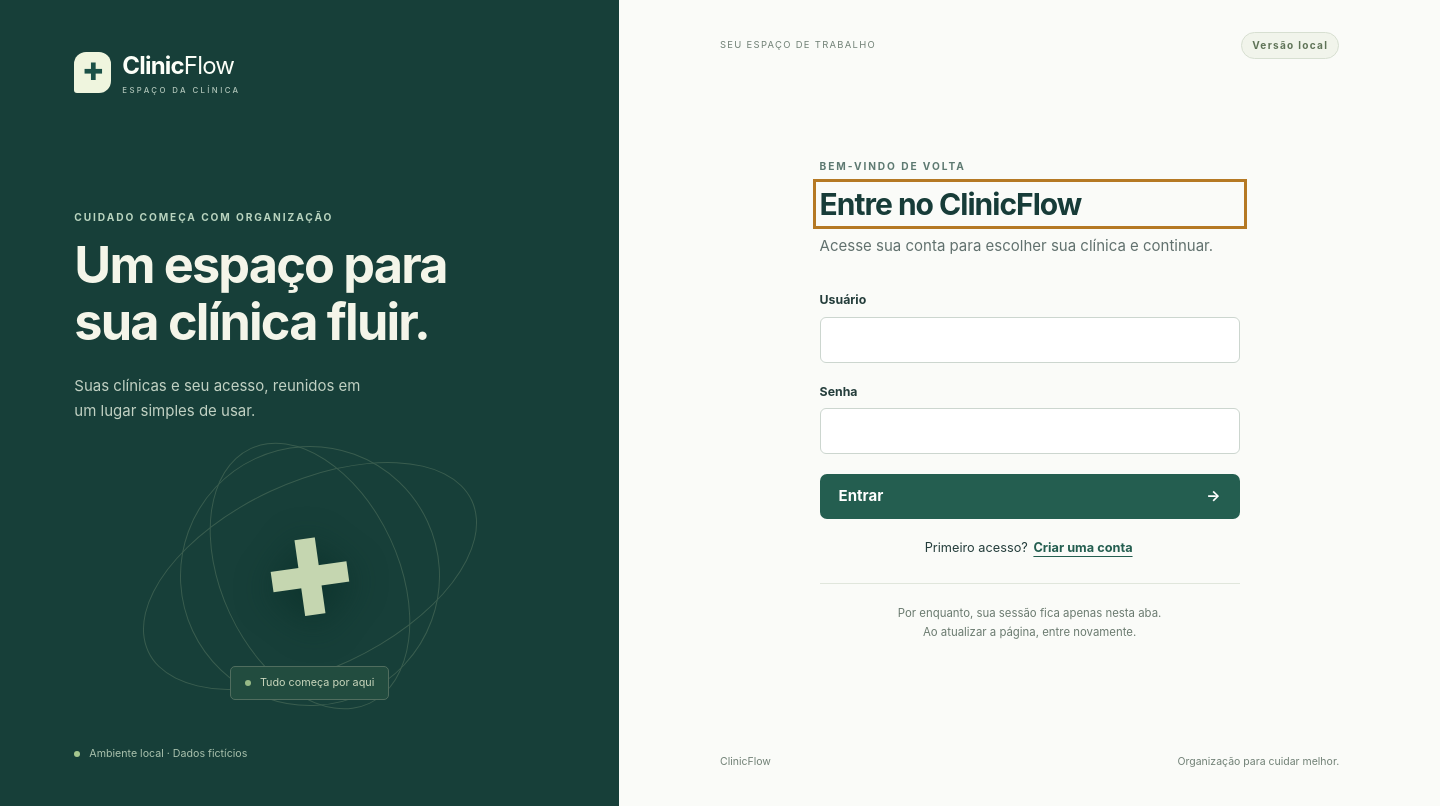
Test: route boundaries and navigation › ignores an older detail response after navigating to another clinic
This screenshot has width=1440, height=806.
In the field labelled "Usuário": (1030, 340) [820,317,1240,363], type "synthetic"
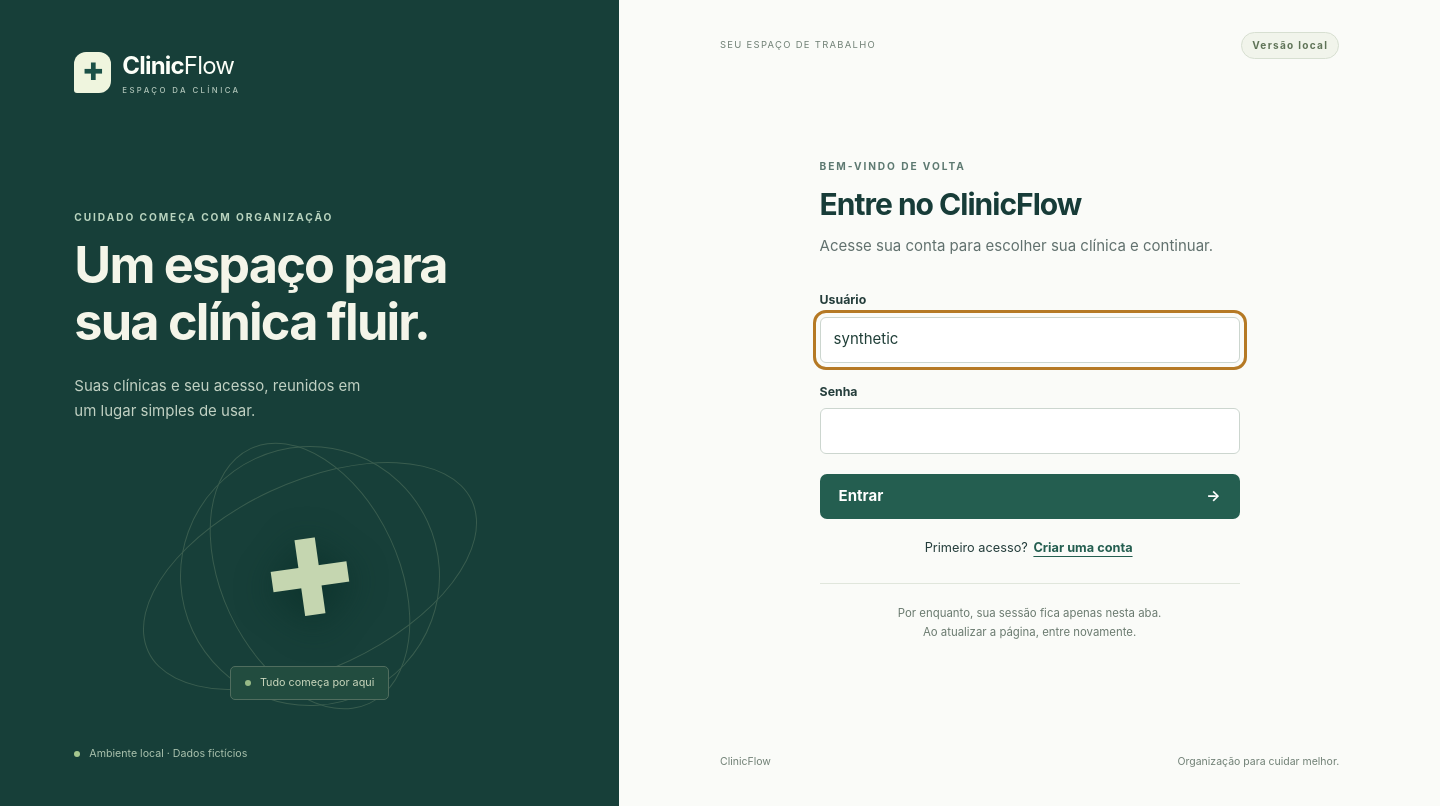
In the password field labelled "Senha": (1030, 431) [820,408,1240,454], type "Fictitious-Password-936!"
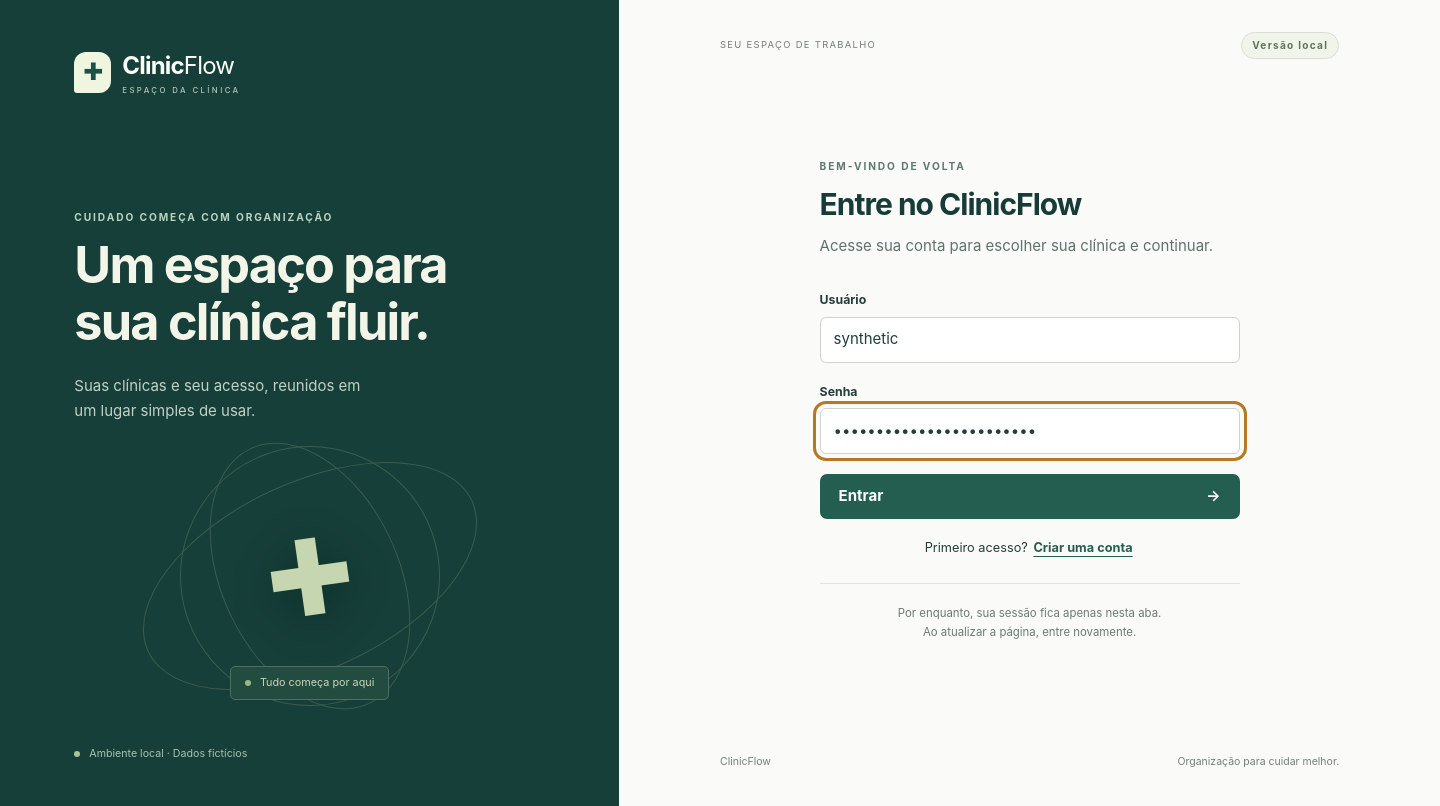
Click the button "Entrar →": click(861, 496) [820,474,1240,519]
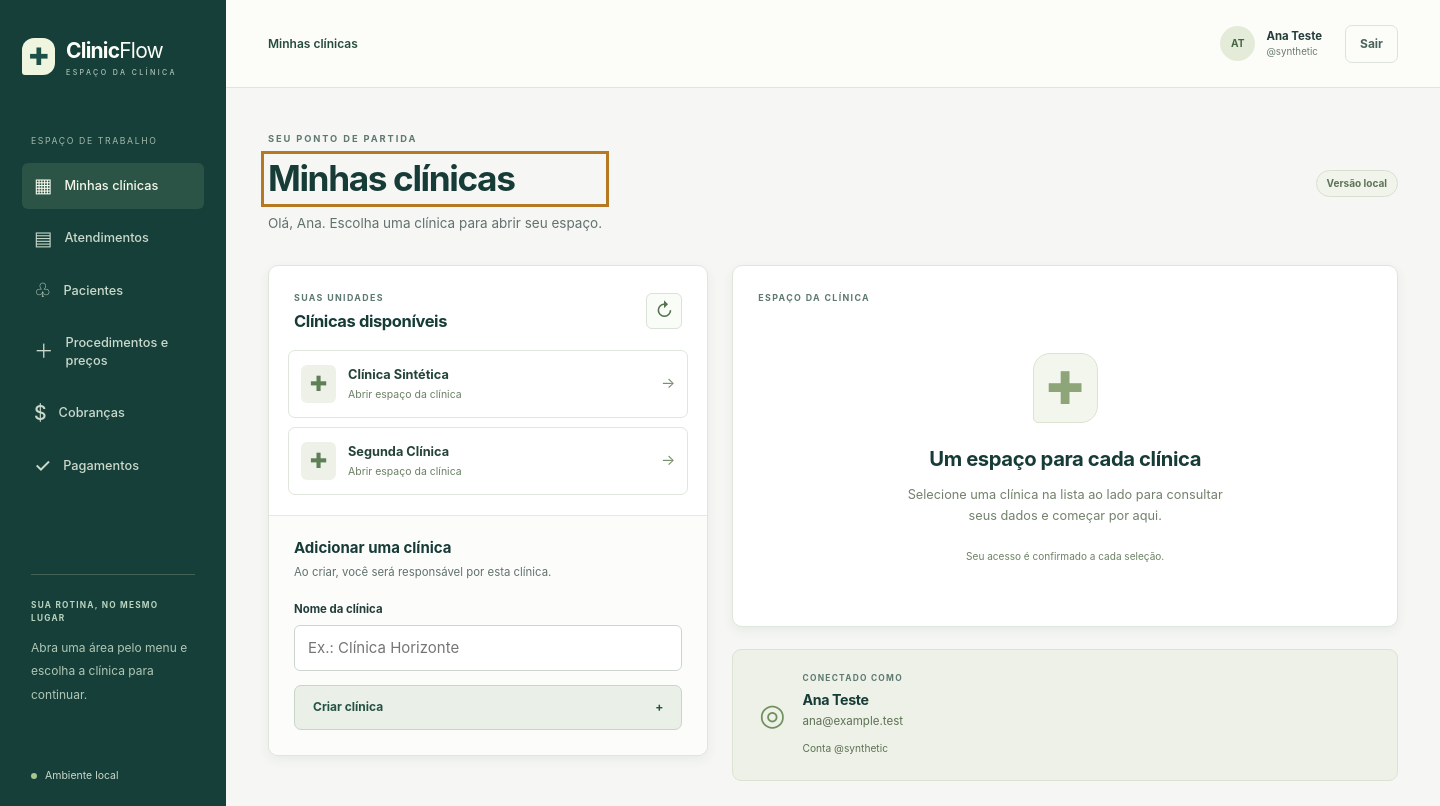
Click the link "✚ Clínica Sintética Abrir espaço da clínica →": click(318, 384) [288,350,688,418]
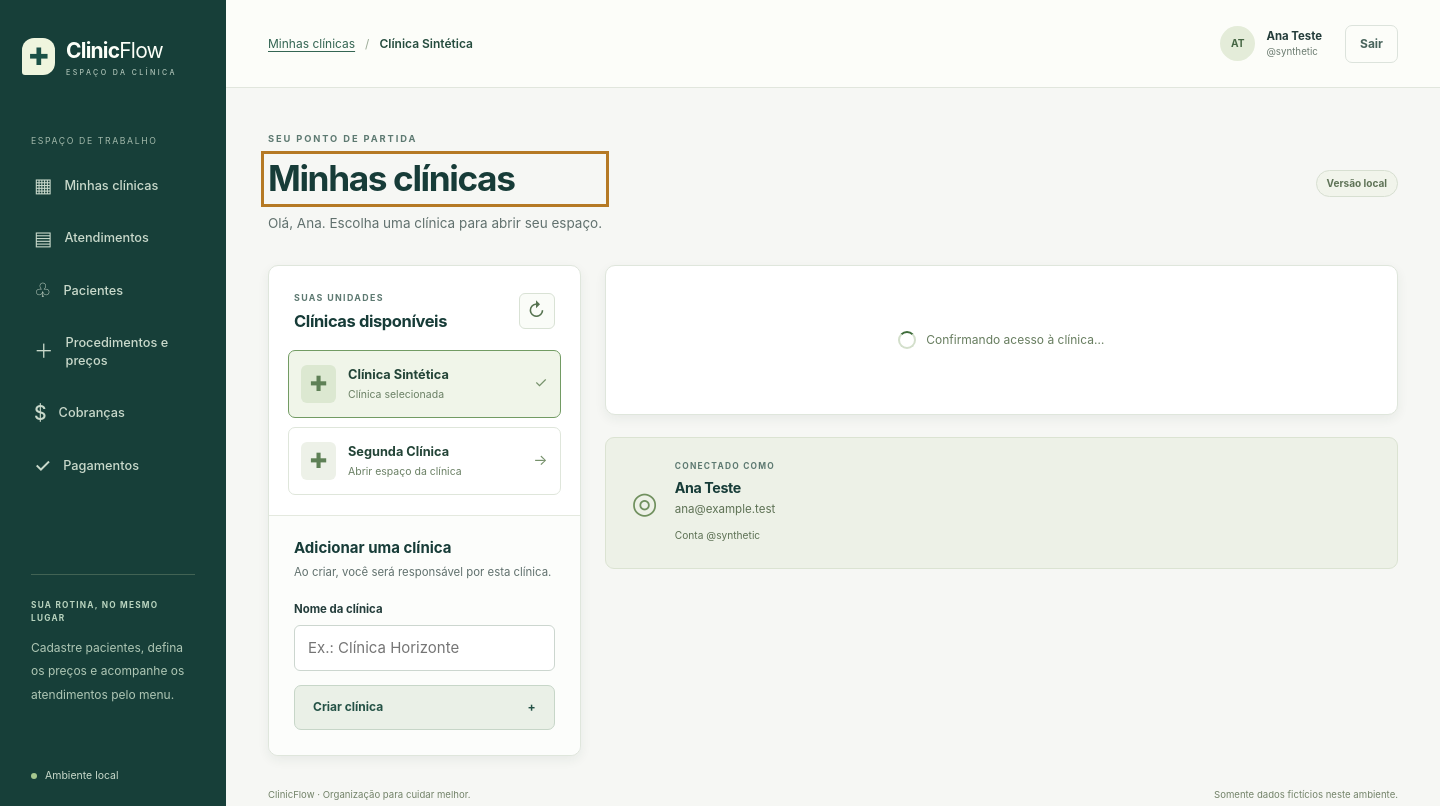
Click the link "✚ Segunda Clínica Abrir espaço da clínica →": click(424, 461) [288,427,561,495]
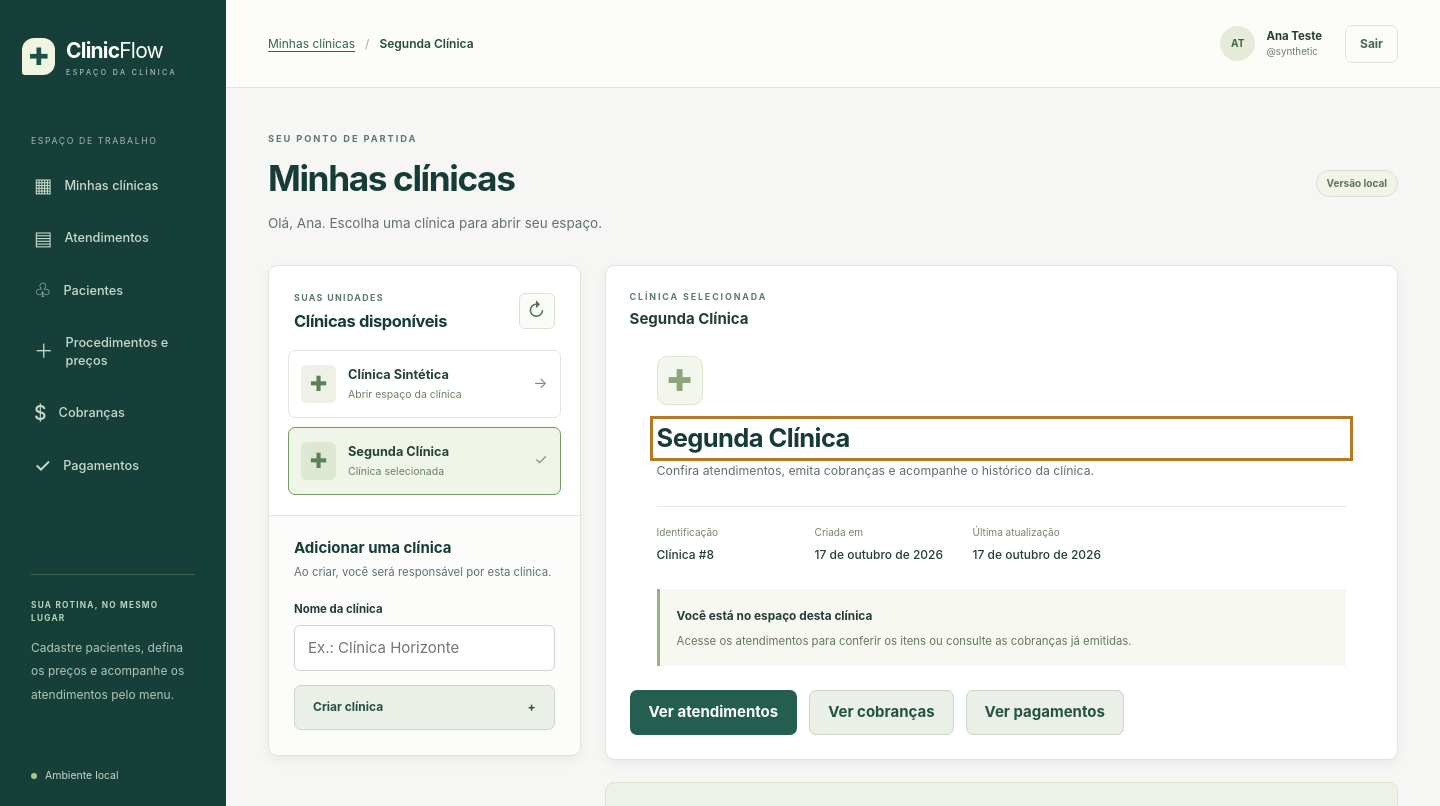
expect the heading "Segunda Clínica" is shown: met, box [657,422,850,453]
